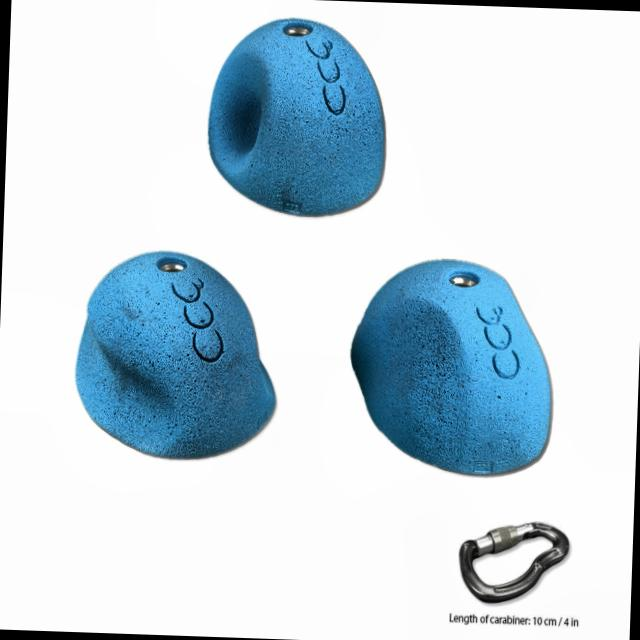Hold: (344, 253, 566, 483), (71, 245, 281, 461), (202, 15, 386, 218)
